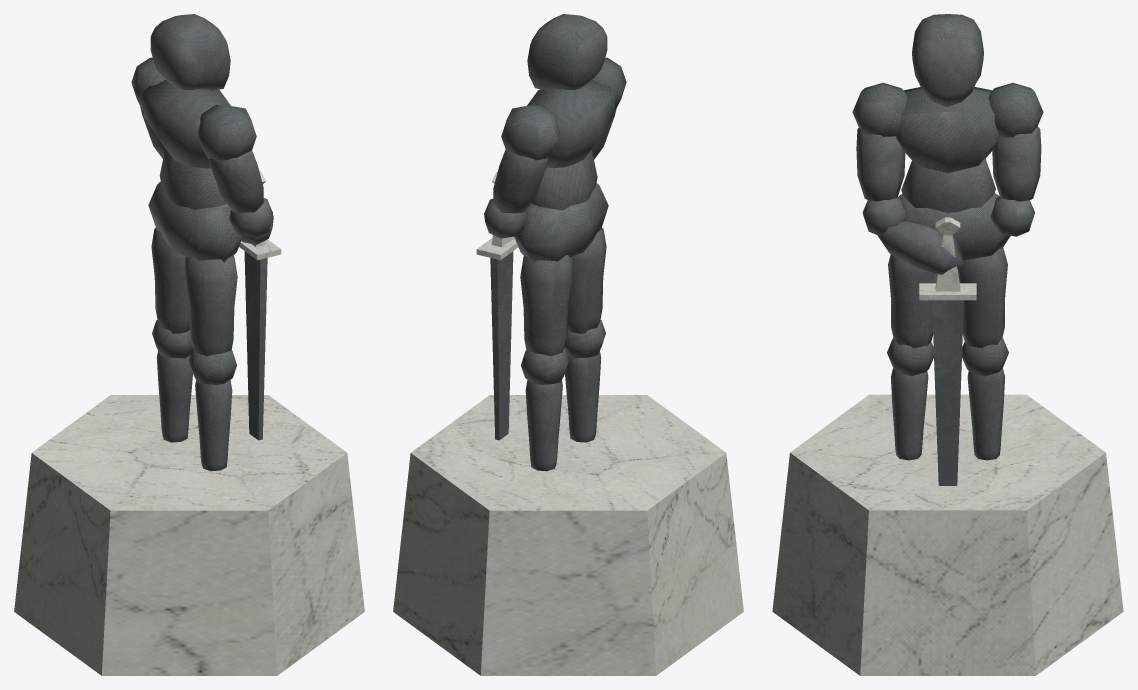
Rendered from Knight.glb.
The picture shows the model from 3 angles, left to right: view 1: azimuth 30°, elevation 25°; view 2: azimuth 150°, elevation 25°; view 3: azimuth 270°, elevation 25°; orthographic projection.
Visible parts, largest first — view 1: Base, Amour, Sword; view 2: Base, Amour, Sword; view 3: Base, Amour, Sword.
Boxes of the visible parts, left/top/right/bottom form: Base: left=14, top=395, right=364, bottom=675; Amour: left=131, top=14, right=273, bottom=471; Sword: left=239, top=171, right=281, bottom=440; Base: left=393, top=395, right=743, bottom=675; Amour: left=484, top=14, right=626, bottom=471; Sword: left=476, top=171, right=518, bottom=440; Base: left=772, top=394, right=1123, bottom=675; Amour: left=852, top=14, right=1043, bottom=460; Sword: left=919, top=217, right=976, bottom=485.
Bounding box in the file's own units: 1.04 × 2.24 × 1.2.
Materials: 2 (2 with a texture image).
